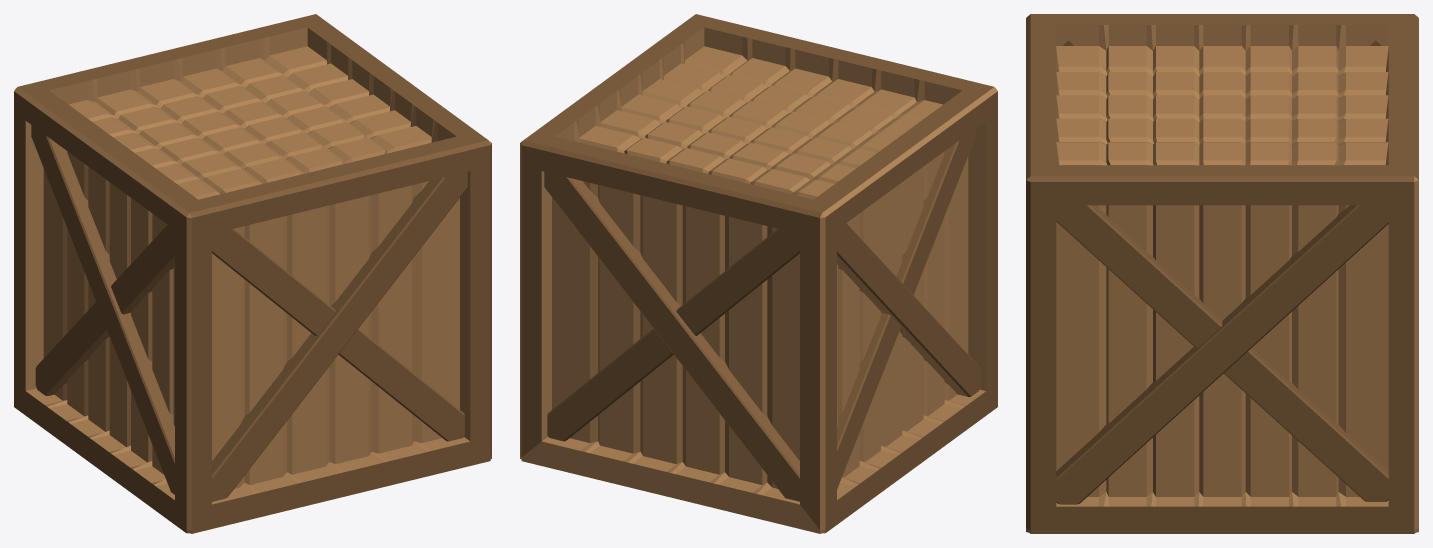
Rendered from crate.fbx.
The picture shows the model from 3 angles, left to right: view 1: azimuth 30°, elevation 25°; view 2: azimuth 150°, elevation 25°; view 3: azimuth 270°, elevation 25°; orthographic projection. The views are drawn at different scales.
Visible parts, largest first — view 1: crate; view 2: crate; view 3: crate.
Part boxes in pixels (x1=…): crate: x1=14, y1=14, x2=491, y2=533; crate: x1=520, y1=14, x2=997, y2=533; crate: x1=1026, y1=14, x2=1418, y2=533.
Bounding box in the file's own units: 140 × 140 × 140.
